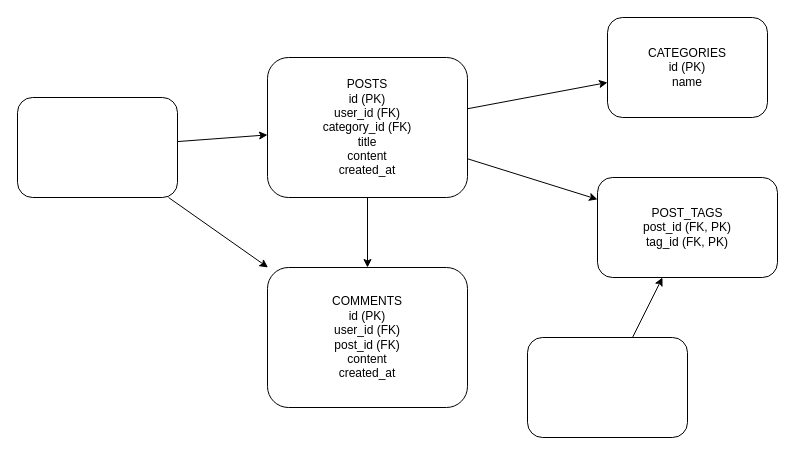
Image size: 795x455. Some labels were removed from this diagram. Here are the shapes that lost their labels. From the top down, the box of each, then its label:
(16, 96, 178, 198): USERS id (PK) name email
(526, 336, 688, 438): TAGS id (PK) name
